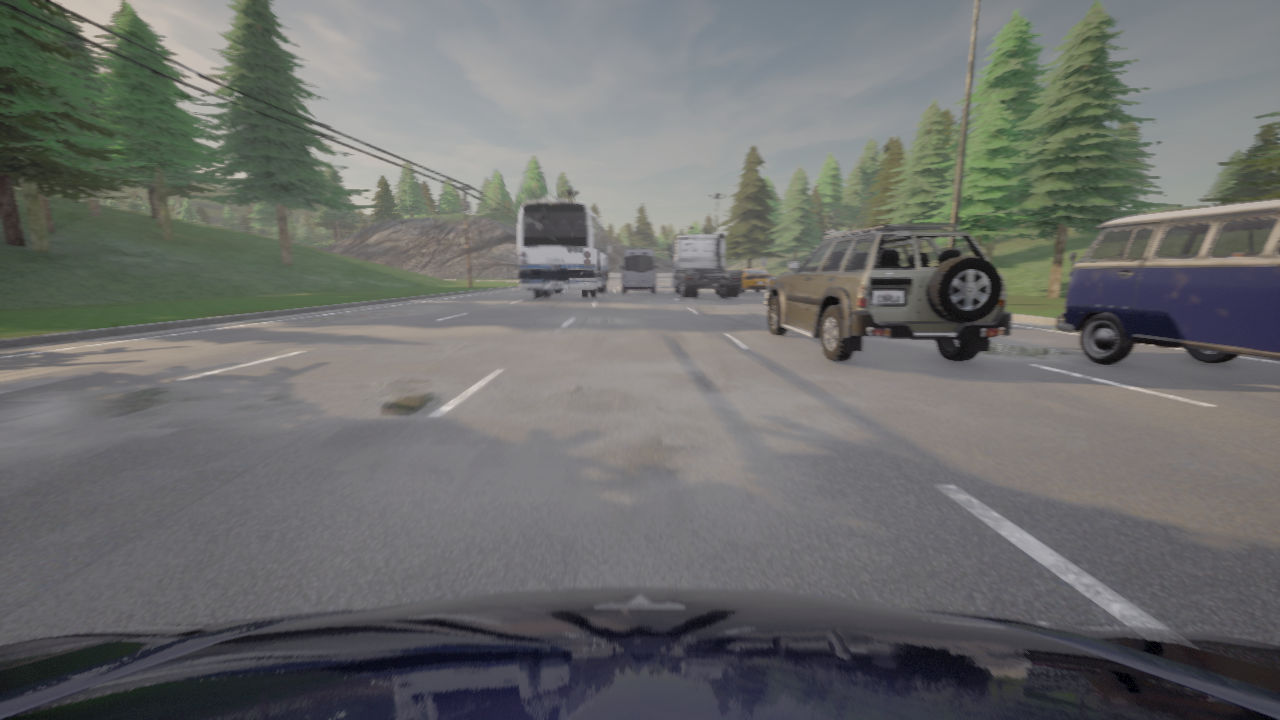cyclist: (0, 588, 1279, 719), (1056, 199, 1279, 363), (765, 225, 1012, 361), (518, 199, 611, 298), (669, 233, 742, 297), (621, 249, 656, 293), (740, 268, 773, 293)
